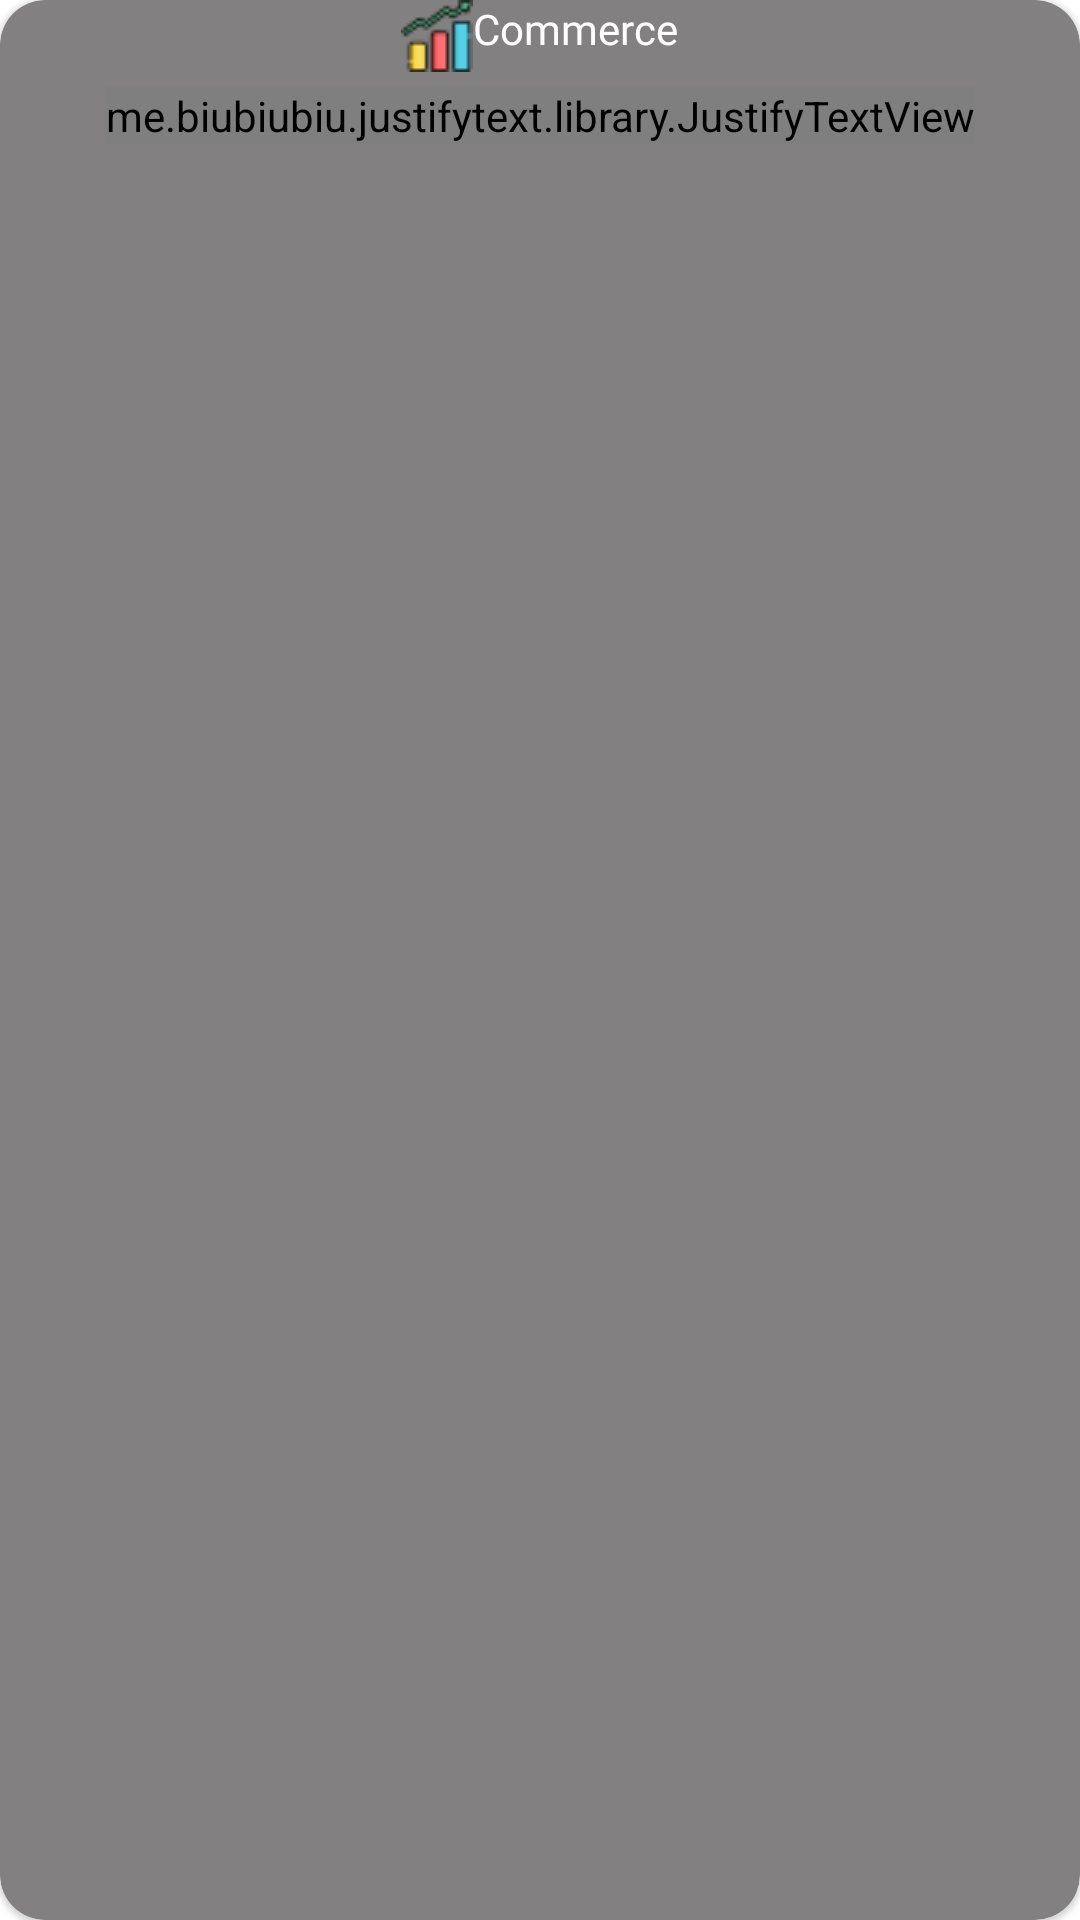

Where to tap for icons on this 1080px×1920px app screen, as (x,y):
statistics: (437,36)
